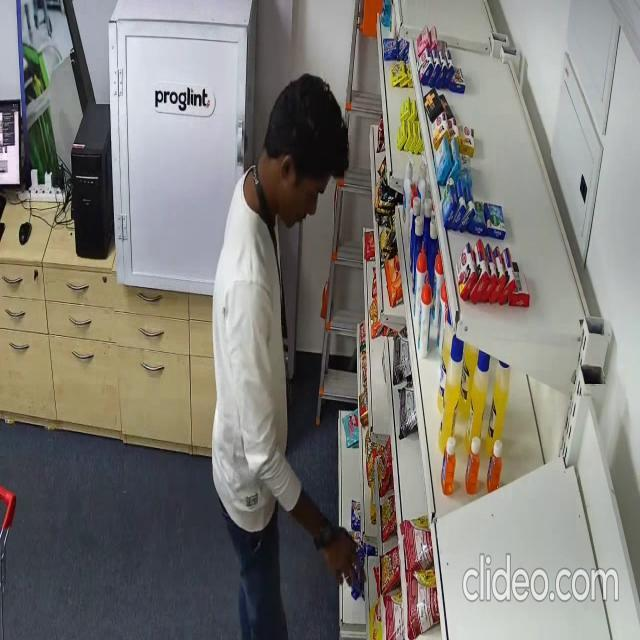normal: (209, 73, 366, 640)
